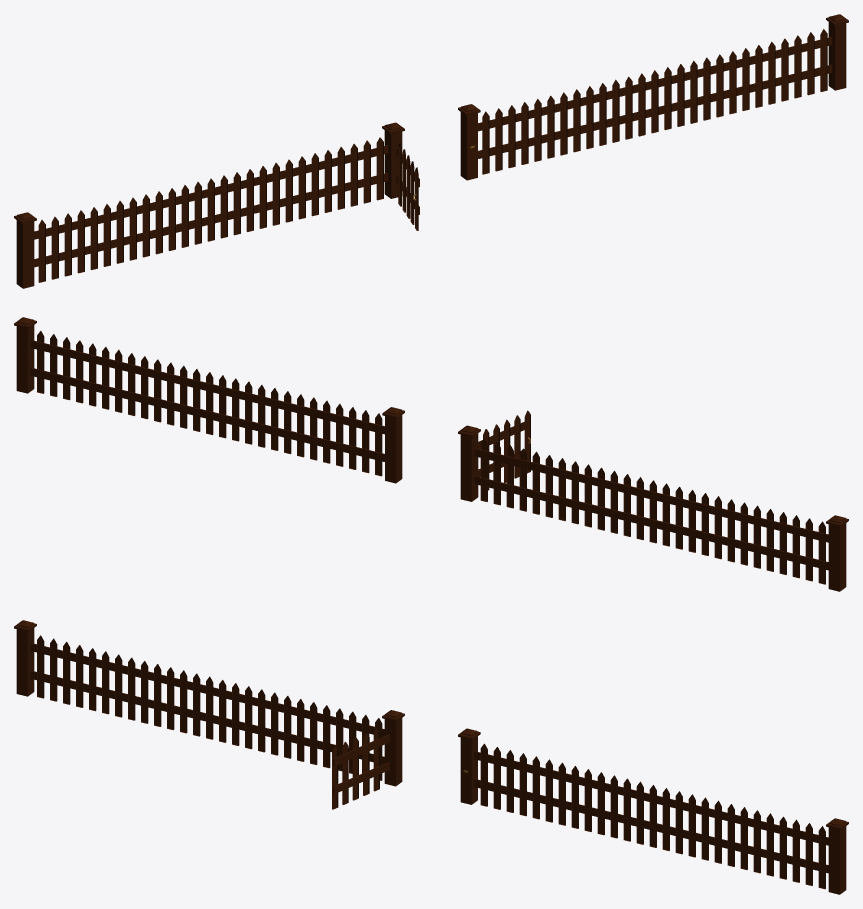
Rendered from Fence Entrance 2.fbx.
3 views of the same model, one above another, from view 1: azimuth 30°, elevation 25°; view 2: azimuth 150°, elevation 25°; view 3: azimuth 330°, elevation 25° (orthographic).
Visible parts, largest first — view 1: Cube.004, Cube.008, Cube.002, Cube.006, Cube.007, Cube, Cube.003, Cube.011, Cube.009; view 2: Cube.004, Cube.008, Cube.006, Cube.002, Cube.007, Cube.009, Cube, Cube.003, Cube.011; view 3: Cube.004, Cube.008, Cube.002, Cube.006, Cube.011, Cube.003, Cube.007, Cube.009, Cube, Cube.010.
Part boxes in pixels (x1,y1,x2,y2): Cube.004: (482, 29, 827, 174); Cube.008: (38, 137, 383, 282); Cube.002: (478, 37, 832, 158); Cube.006: (34, 145, 388, 267); Cube.007: (14, 212, 36, 288); Cube: (458, 104, 480, 180); Cube.003: (826, 14, 848, 90); Cube.011: (398, 143, 418, 230); Cube.009: (382, 122, 404, 198); Cube.004: (37, 331, 382, 476); Cube.008: (480, 439, 825, 584); Cube.006: (474, 448, 828, 570); Cube.002: (30, 340, 384, 461); Cube.007: (826, 515, 848, 591); Cube.009: (458, 425, 480, 501); Cube: (382, 407, 404, 483); Cube.003: (14, 317, 36, 393); Cube.011: (483, 410, 530, 490); Cube.004: (480, 743, 825, 889); Cube.008: (37, 635, 382, 780); Cube.002: (474, 751, 828, 873); Cube.006: (30, 643, 384, 764); Cube.011: (332, 728, 379, 809); Cube.003: (826, 818, 848, 894); Cube.007: (14, 620, 36, 696); Cube.009: (382, 710, 404, 786); Cube: (458, 728, 480, 804); Cube.010: (333, 734, 389, 794).
Bounding box in the file's own units: 37.17 × 3.07 × 3.67.
